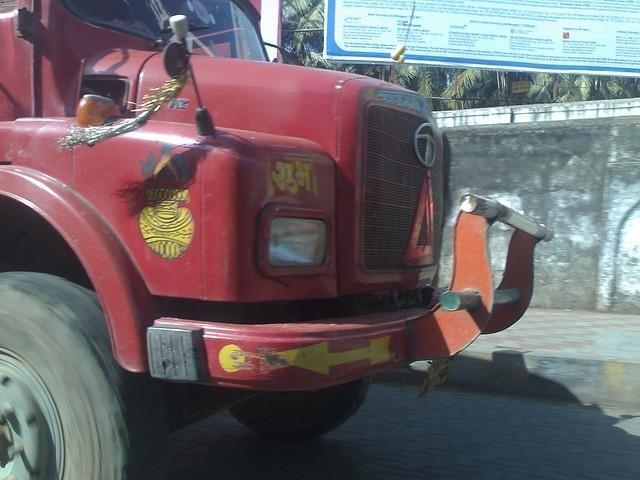truck: (1, 1, 558, 480)
